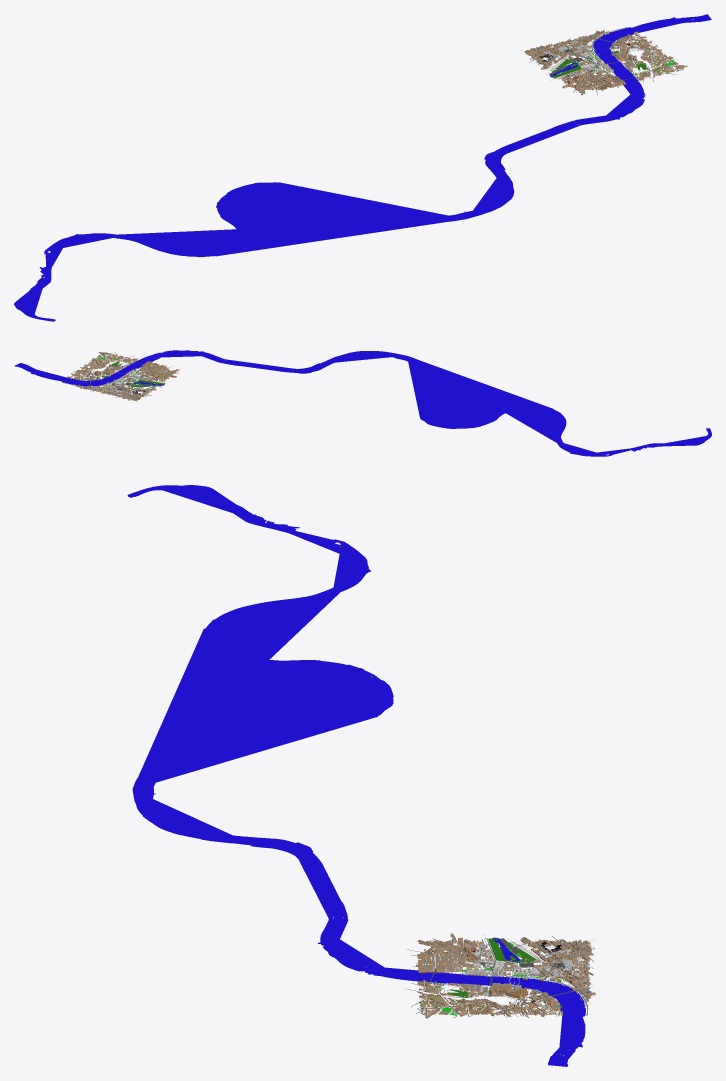
Rendered from London BLOSM.fbx.
3 views of the same model, one above another, from view 1: azimuth 30°, elevation 25°; view 2: azimuth 150°, elevation 25°; view 3: azimuth 270°, elevation 25° (orthographic). The views are drawn at different scales.
Visible parts, largest first — view 1: map_11.osm_water, map_11.osm_buildings; view 2: map_11.osm_water, map_11.osm_buildings; view 3: map_11.osm_water, map_11.osm_buildings.
Boxes of the visible parts, left/top/right/bottom form: map_11.osm_water: left=14, top=14, right=711, bottom=321; map_11.osm_buildings: left=524, top=30, right=687, bottom=94; map_11.osm_water: left=14, top=350, right=711, bottom=456; map_11.osm_buildings: left=67, top=352, right=179, bottom=400; map_11.osm_water: left=127, top=485, right=588, bottom=1066; map_11.osm_buildings: left=416, top=933, right=595, bottom=1018.
Bounding box in the file's own units: 1629257 × 14040 × 558052.
